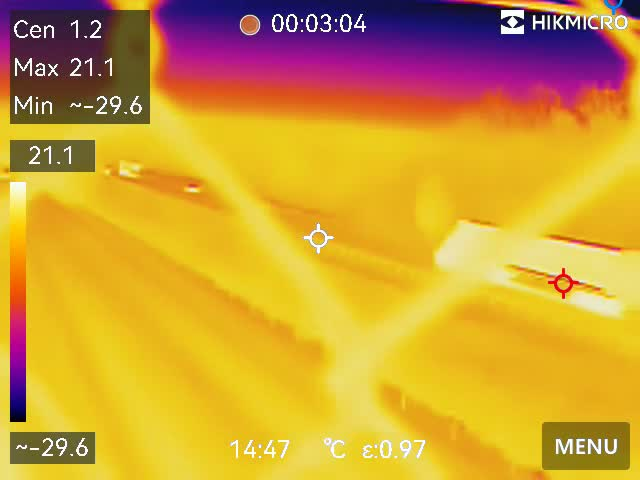heavyTruck: (432, 197, 640, 292)
